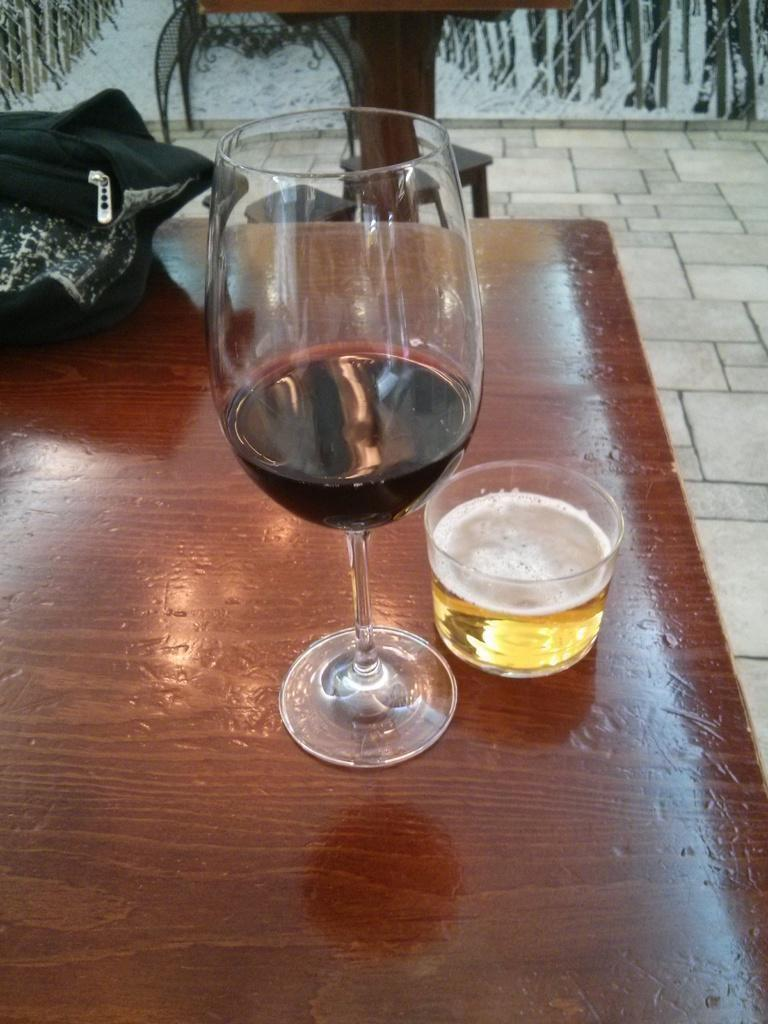glass-normal: (420, 454, 626, 679)
glass-wine: (208, 100, 483, 777)
